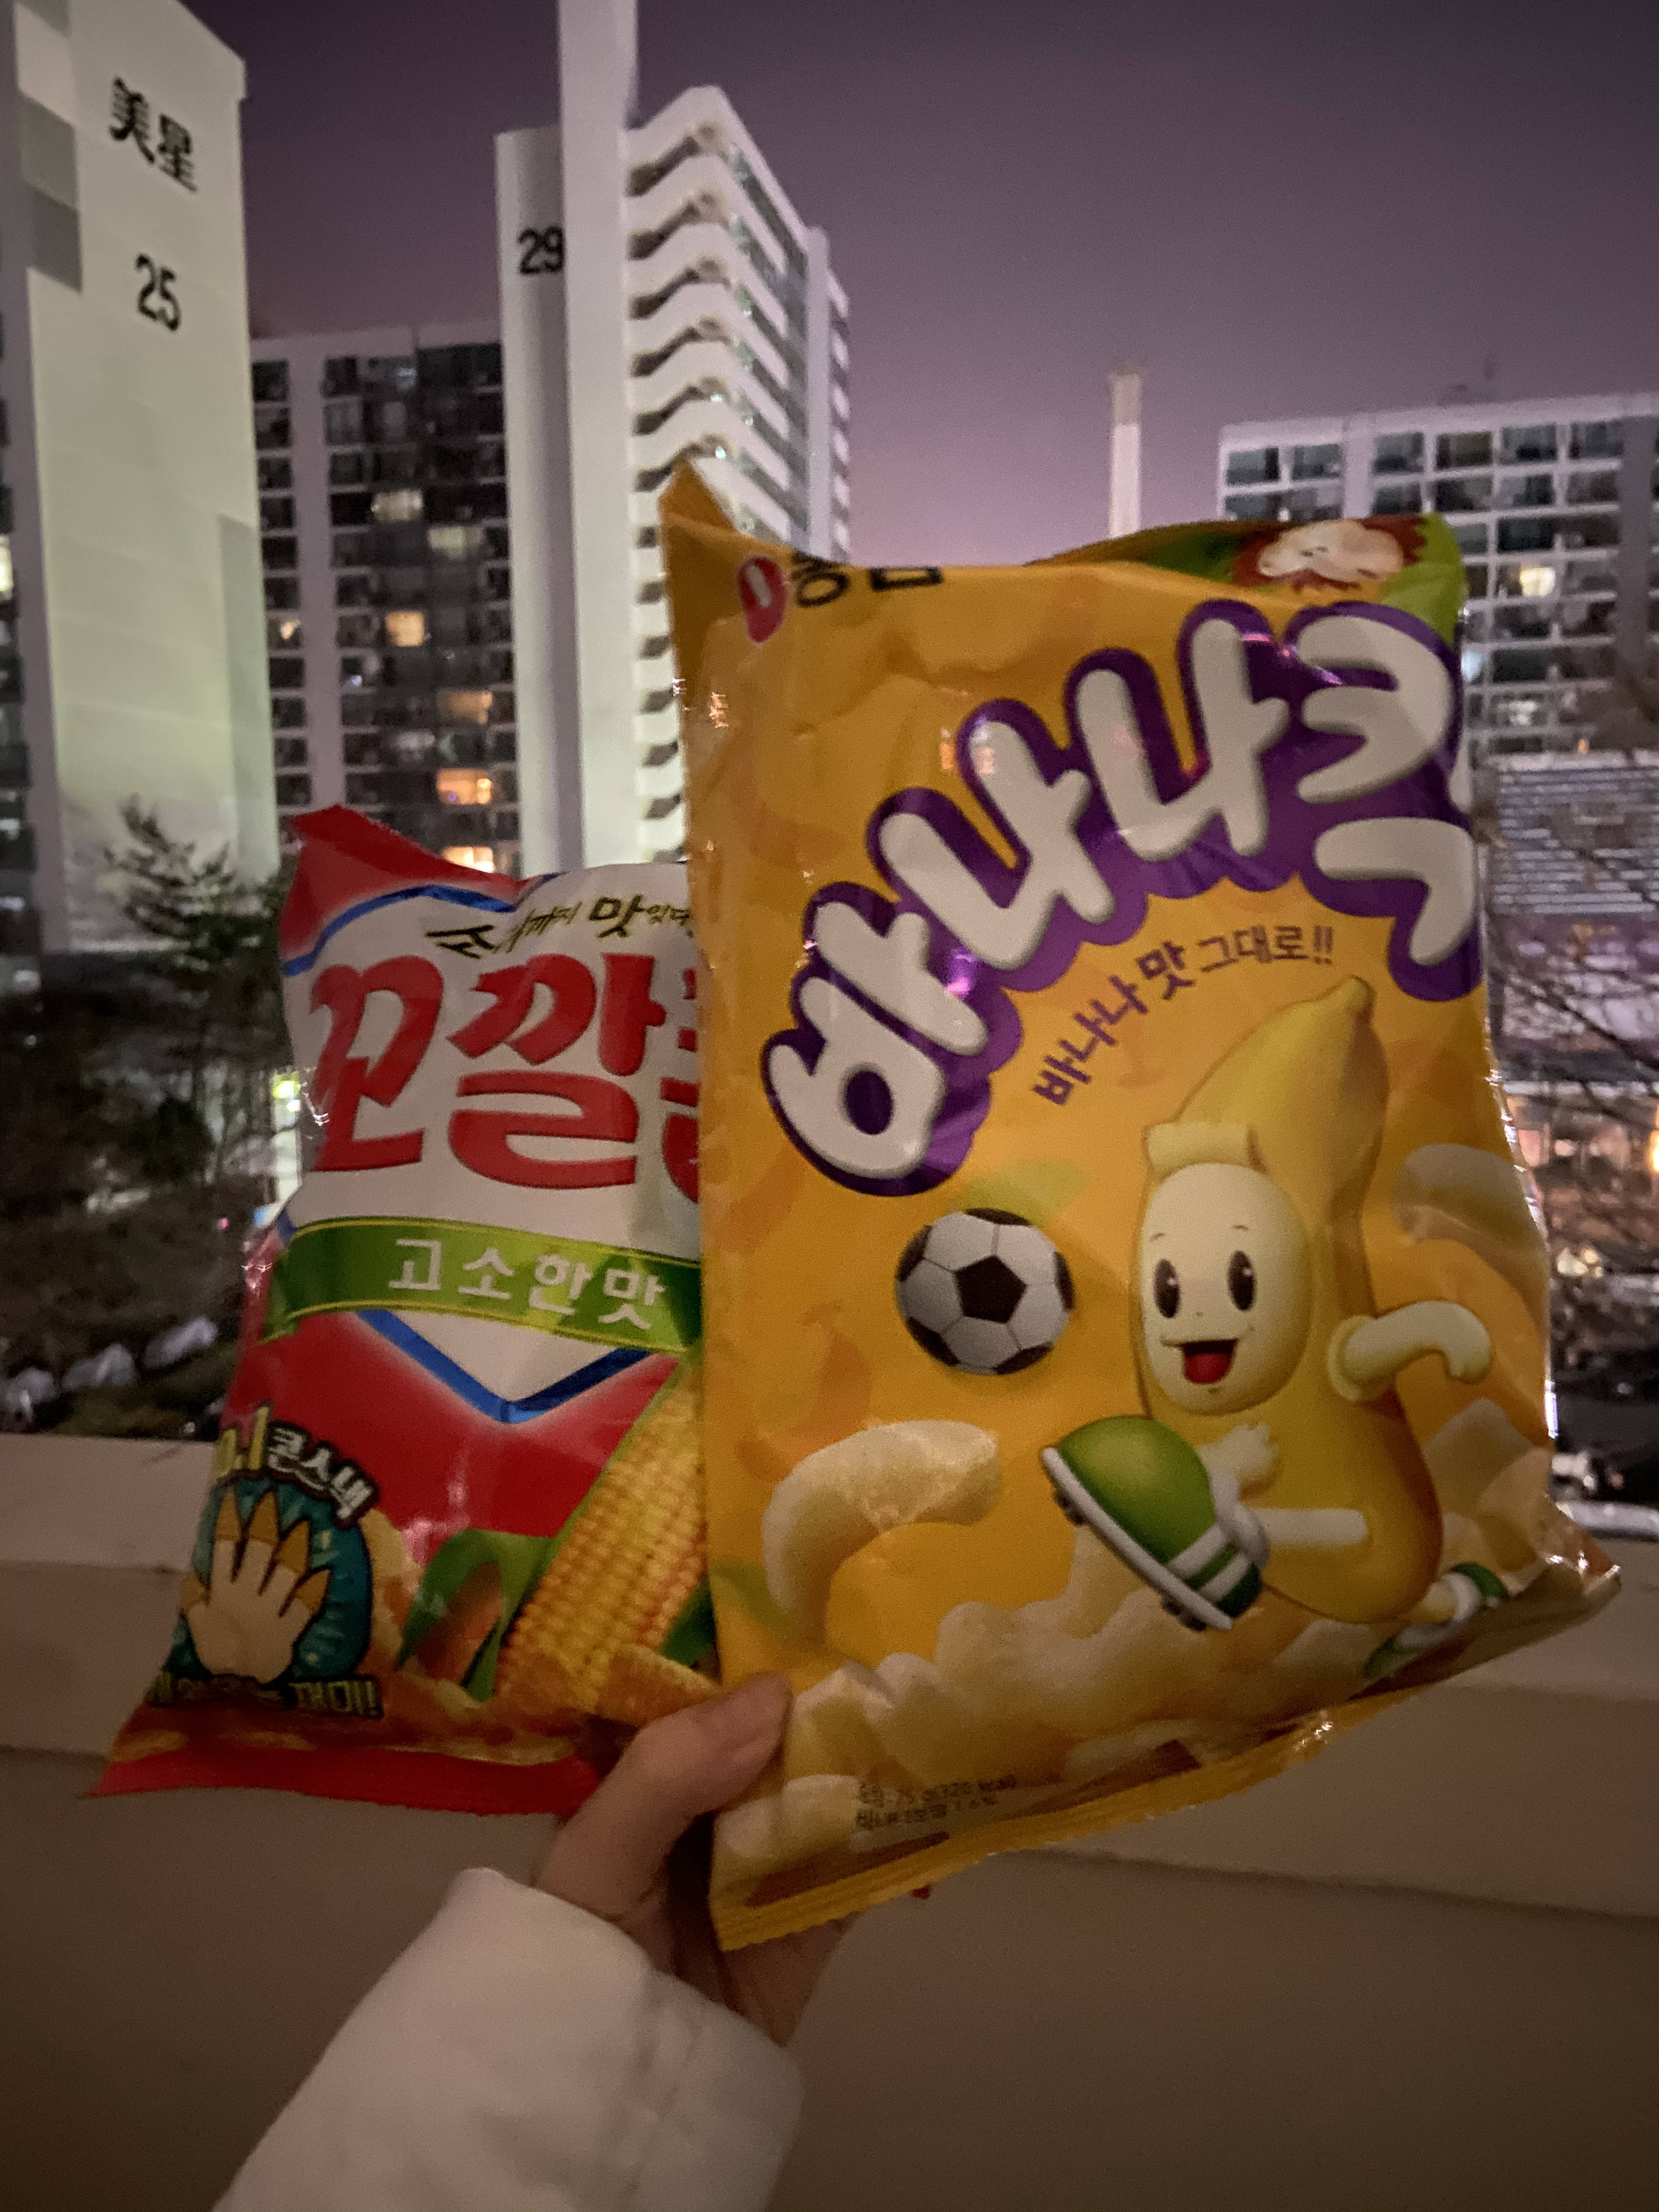banana: (641, 456, 1635, 1977)
ggoggalcon: (82, 798, 748, 1862)
